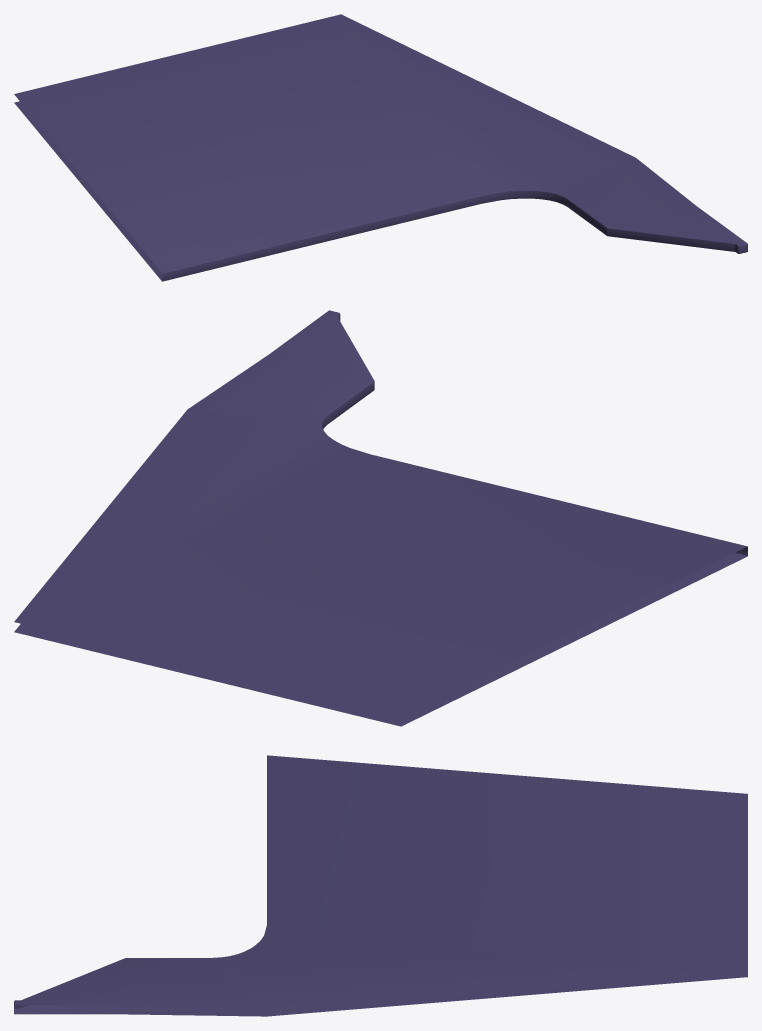
File: Mh_SecondFloor.fbx
3 views of the same model, one above another, from view 1: azimuth 30°, elevation 25°; view 2: azimuth 150°, elevation 25°; view 3: azimuth 270°, elevation 25° (orthographic). The views are drawn at different scales.
Visible parts, largest first — view 1: Mh_SecondFloor; view 2: Mh_SecondFloor; view 3: Mh_SecondFloor.
Part boxes in pixels (x1,y1,x2,y2): Mh_SecondFloor: (14,14,747,281); Mh_SecondFloor: (14,310,747,726); Mh_SecondFloor: (14,755,747,1016).
Bounding box in the file's own units: 2026 × 34.99 × 2496.
